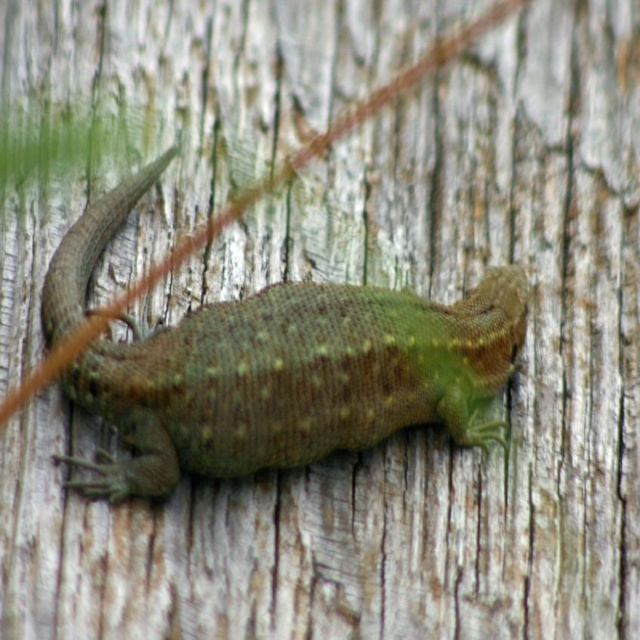Lizard: (40, 142, 528, 505)
